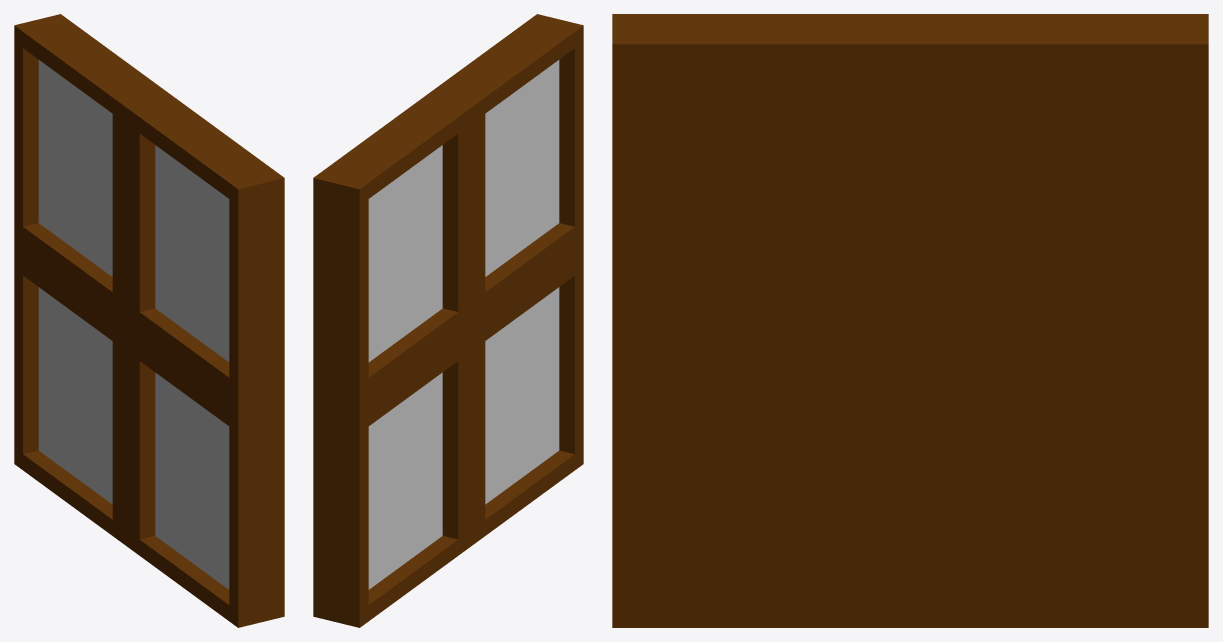
The model's file is window_simple_small.glb.
3 renders of one model, left to right at view 1: azimuth 30°, elevation 25°; view 2: azimuth 150°, elevation 25°; view 3: azimuth 270°, elevation 25°, orthographic. The views are drawn at different scales.
Parts seen in each view (by area): view 1: window_simple_small; view 2: window_simple_small; view 3: window_simple_small.
Part boxes in pixels (box(x1,y1,x2,y2)): window_simple_small: box(14, 14, 284, 627); window_simple_small: box(313, 14, 583, 627); window_simple_small: box(612, 14, 1208, 627).
Bounding box in the file's own units: 0.3 × 2.7 × 2.5.
Materials: 1 (1 with a texture image).
